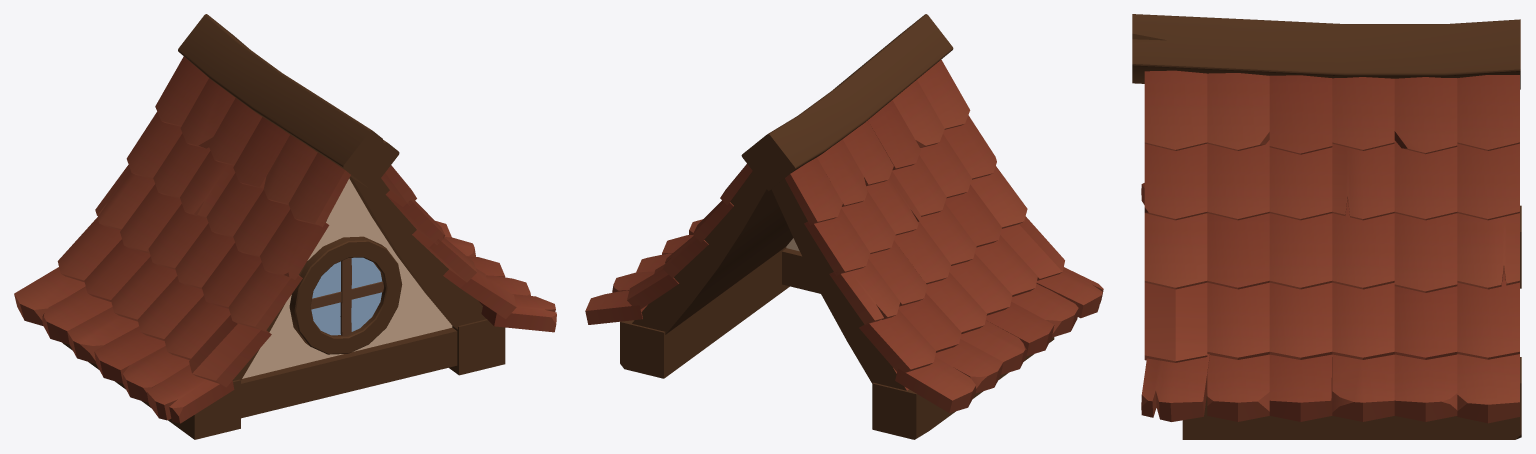
The model's file is HouseRoof_15.glb.
The picture shows the model from 3 angles, left to right: view 1: azimuth 30°, elevation 25°; view 2: azimuth 150°, elevation 25°; view 3: azimuth 270°, elevation 25°; orthographic projection. The views are drawn at different scales.
Parts seen in each view (by area): view 1: HouseRoof_15_LOD0; view 2: HouseRoof_15_LOD0; view 3: HouseRoof_15_LOD0.
Boxes of the visible parts, box(x1,y1,x2,y2) form: HouseRoof_15_LOD0: box(14, 14, 556, 439); HouseRoof_15_LOD0: box(585, 14, 1103, 439); HouseRoof_15_LOD0: box(1132, 14, 1521, 439).
Size of what is drawn, in the model's own units: 3.64 by 2.49 by 2.61.
1 material, 1 textured.
